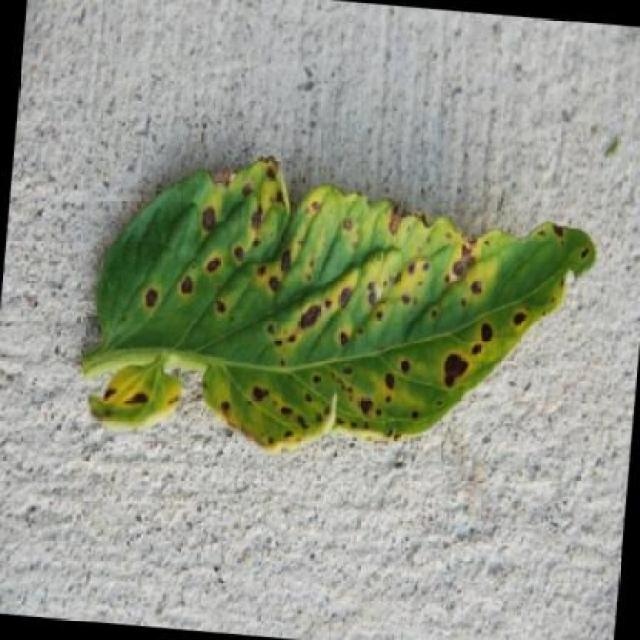Septoria leaf spot: (75, 147, 601, 484)
